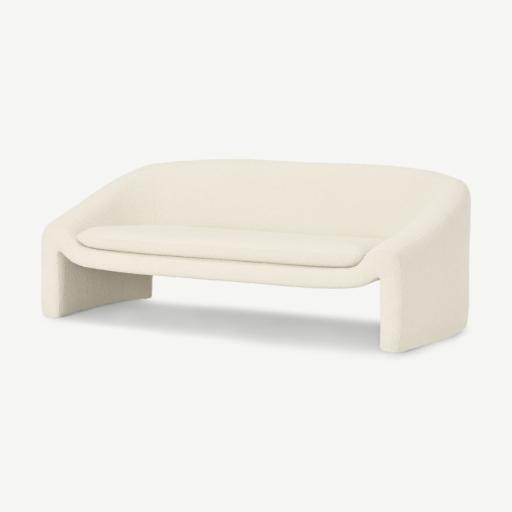back_cushion: (70, 160, 463, 238)
left_arm: (363, 184, 470, 352)
one-seater: (42, 160, 469, 351)
right_arm: (42, 166, 157, 317), (86, 269, 129, 306)
seat_cushion: (78, 225, 382, 267)
